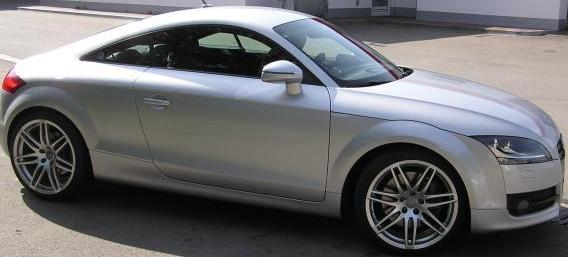front_view: (464, 115, 565, 231)
headlight: (476, 128, 550, 170)
side_glass: (95, 25, 320, 84)
